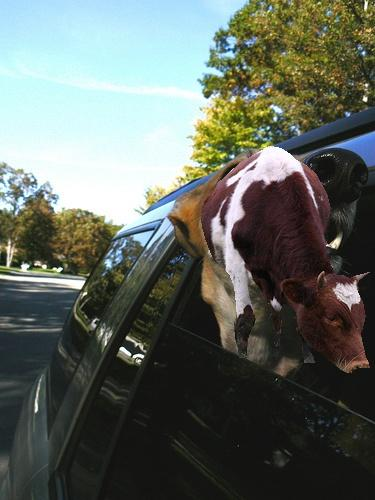tampered: (202, 147, 370, 373)
